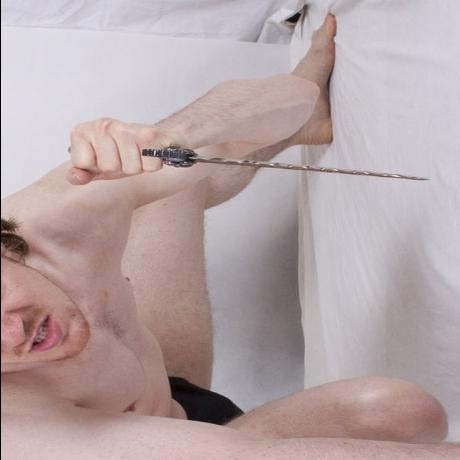1: (0, 9, 460, 460)
weapon: (146, 148, 430, 187)
